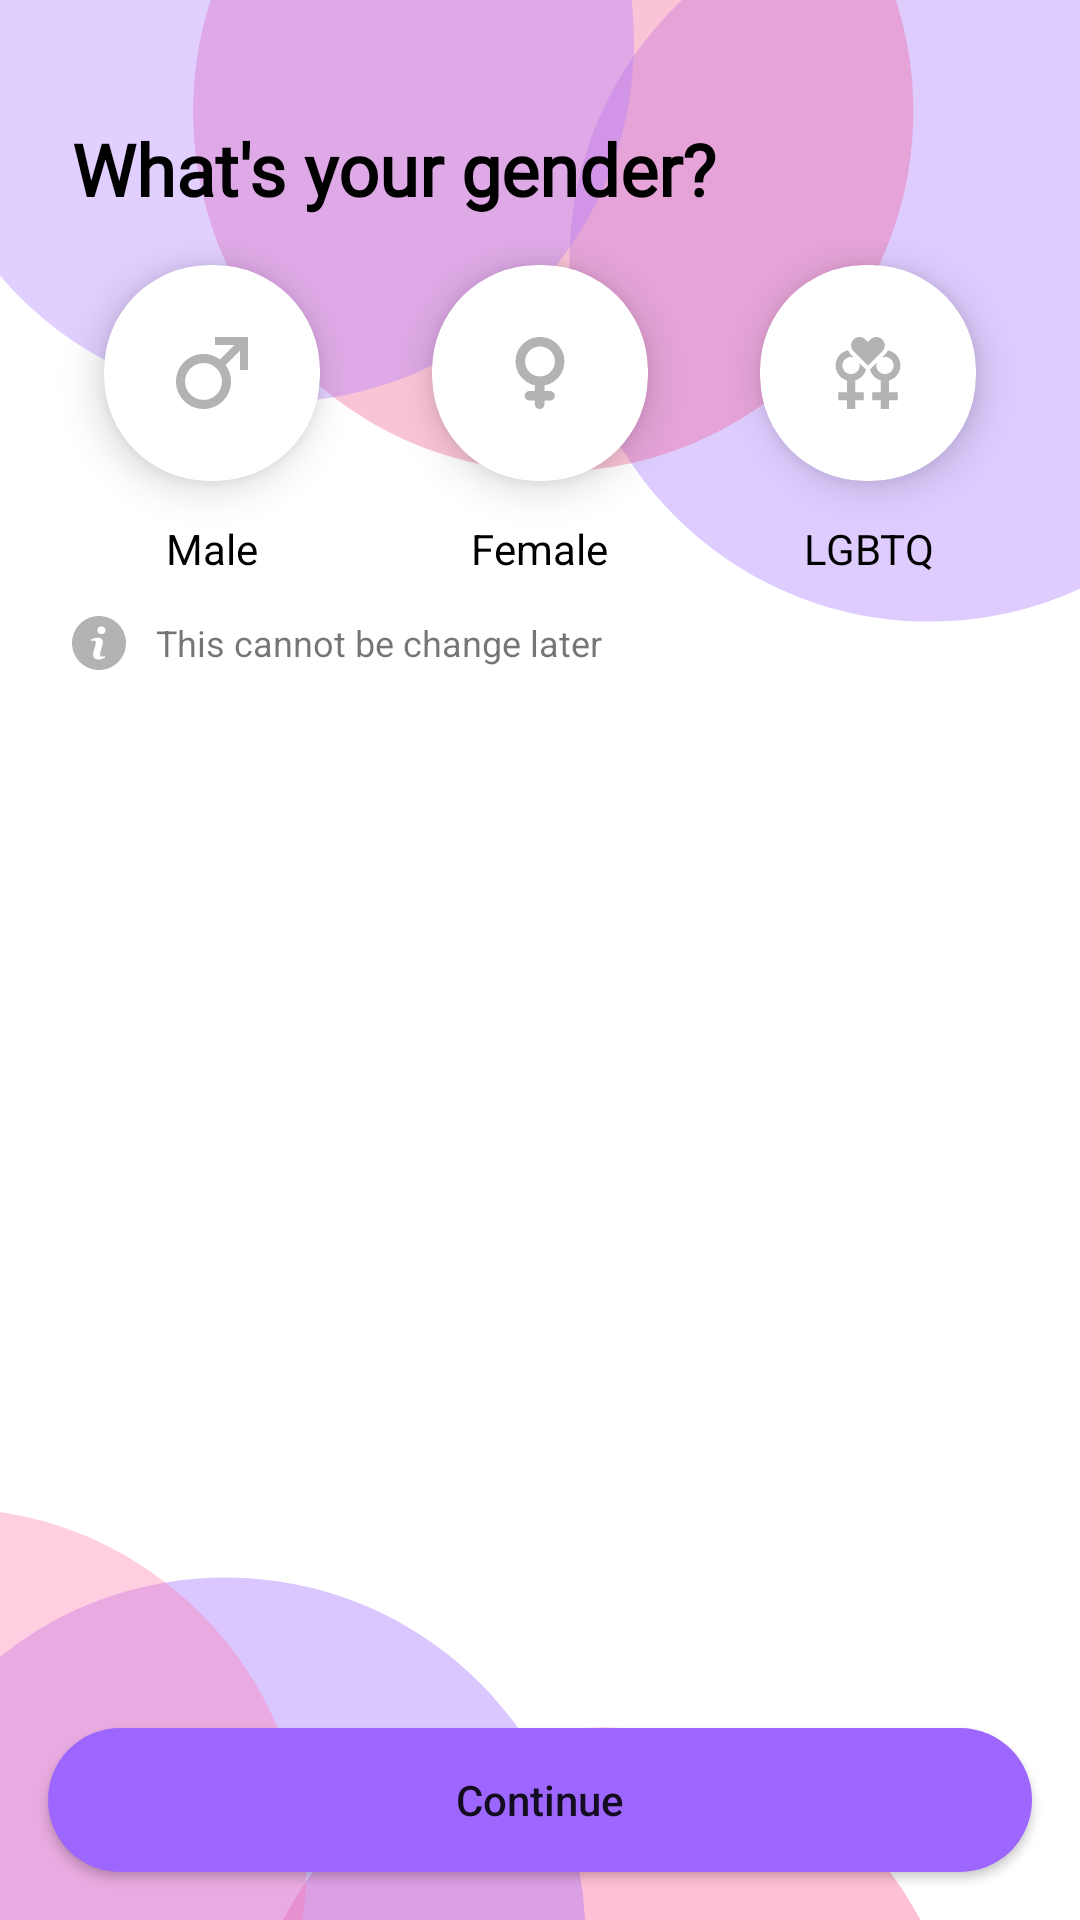

Icons on this 1080w x 1920h Android screen, each with the point to tap as (x,y):
info: (99,643)
lesbian: (868,373)
